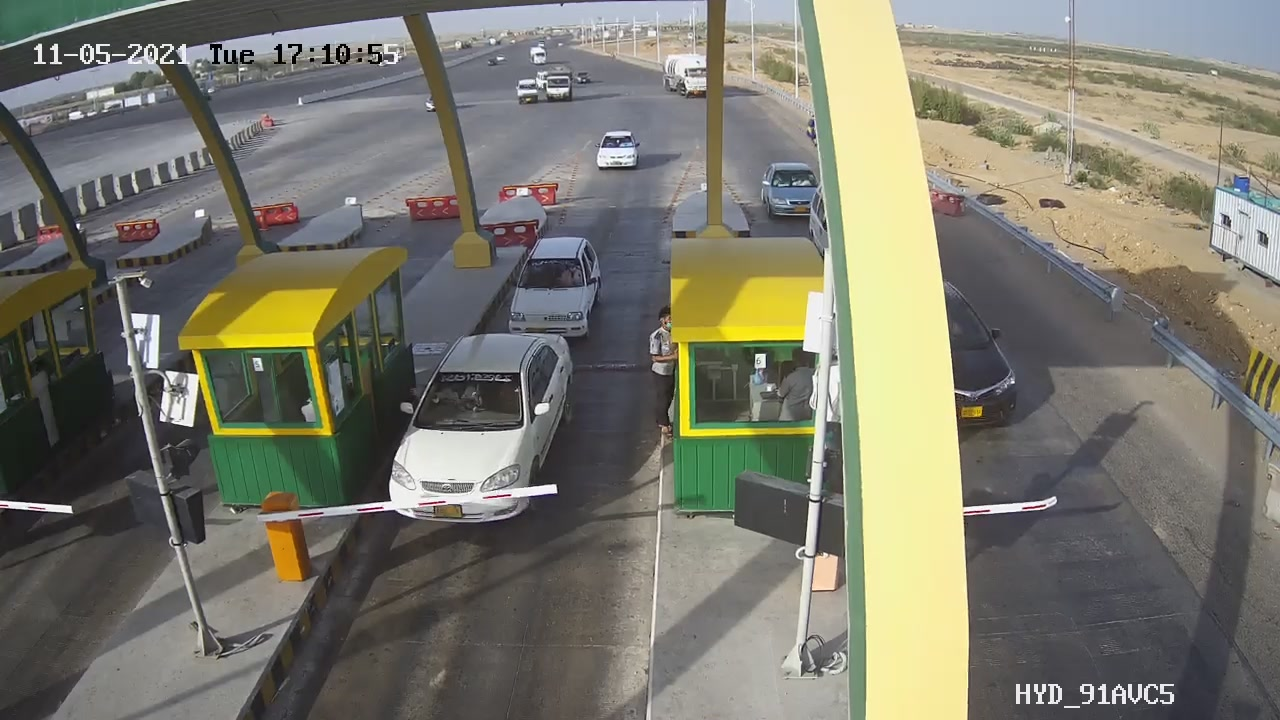F1: (374, 317, 585, 539), (490, 220, 618, 357)
